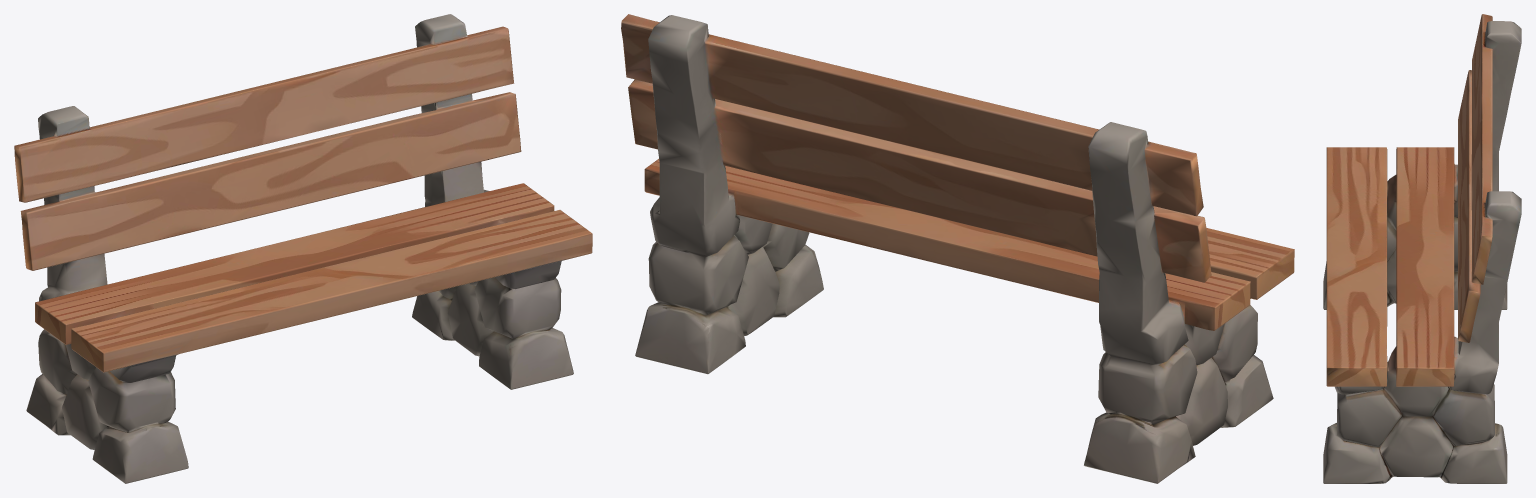
The picture shows the model from 3 angles, left to right: view 1: azimuth 30°, elevation 25°; view 2: azimuth 150°, elevation 25°; view 3: azimuth 270°, elevation 25°; orthographic projection. The views are drawn at different scales.
Parts seen in each view (by area): view 1: tripo_node_2c03727b-b3f0-4d4b-bb54-01dd8f990045; view 2: tripo_node_2c03727b-b3f0-4d4b-bb54-01dd8f990045; view 3: tripo_node_2c03727b-b3f0-4d4b-bb54-01dd8f990045.
Boxes of the visible parts, x1,y1,x2,y2 form: tripo_node_2c03727b-b3f0-4d4b-bb54-01dd8f990045: (14,14,592,483); tripo_node_2c03727b-b3f0-4d4b-bb54-01dd8f990045: (621,14,1294,483); tripo_node_2c03727b-b3f0-4d4b-bb54-01dd8f990045: (1323,14,1521,483).
Bounding box in the file's own units: 0.9998 × 0.572 × 0.3795.
Materials: 1 (1 with a texture image).
